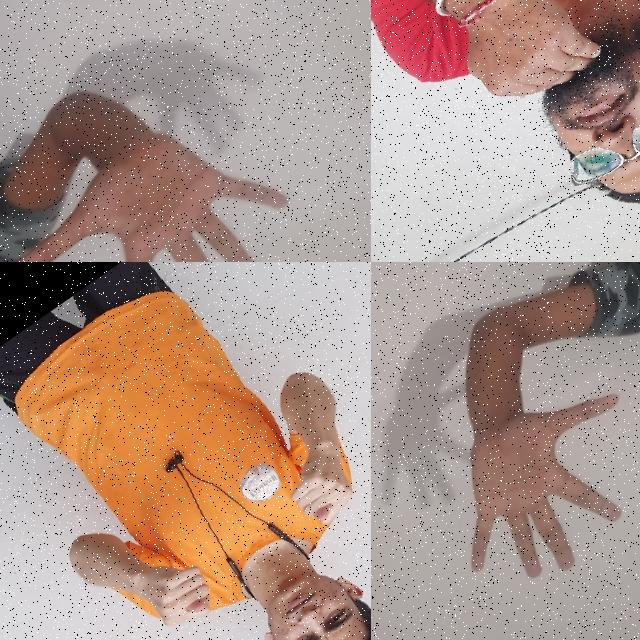Chin Flick: (421, 0, 640, 262)
Dulya: (260, 424, 371, 542), (119, 532, 230, 640)
Moutza: (391, 325, 640, 622), (0, 60, 333, 262)
